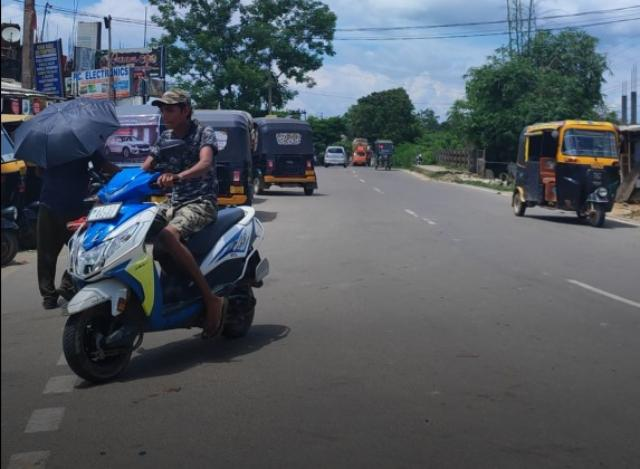licensePlate: (88, 203, 124, 220)
motorcycle: (57, 87, 270, 382)
withoutHelmet: (148, 89, 200, 135)
